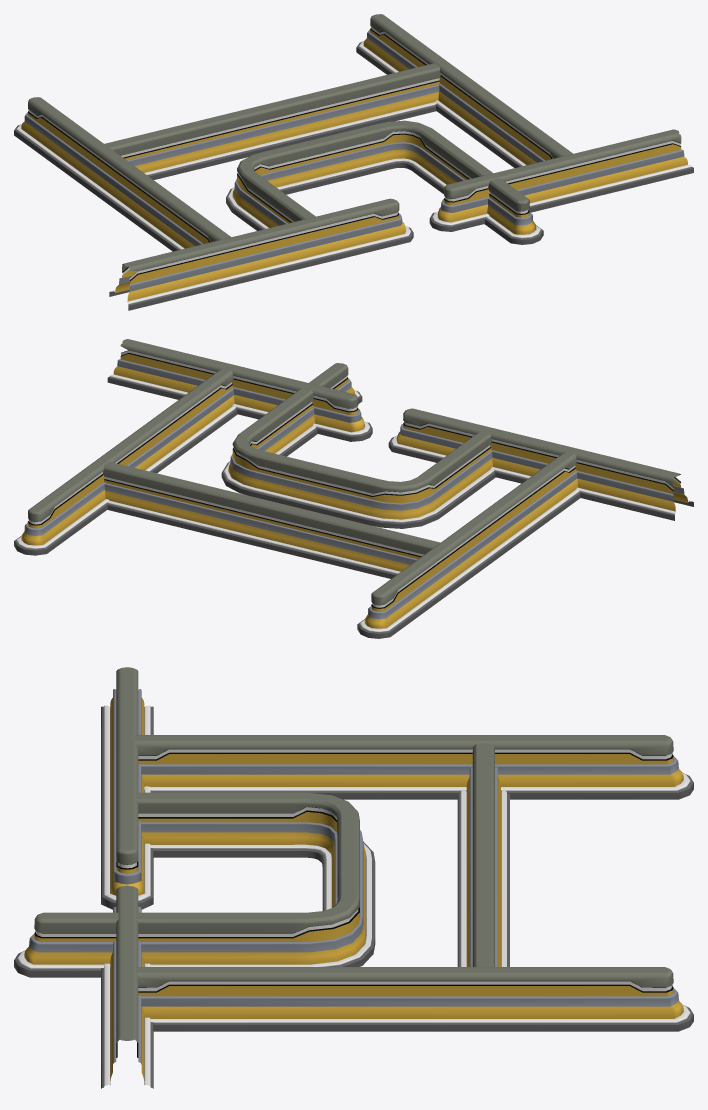
Rendered from Level38_Small_walls.fbx.
The picture shows the model from 3 angles, top to bottom: view 1: azimuth 30°, elevation 25°; view 2: azimuth 150°, elevation 25°; view 3: azimuth 270°, elevation 25°; orthographic projection. The views are drawn at different scales.
Visible parts, largest first — view 1: Small_wall_L65, Small_wall_L47, Small_wallv1_41, Small_wallv1_42, Small_wallv1_40, Small_wallv1_43; view 2: Small_wall_L65, Small_wall_L47, Small_wallv1_40, Small_wallv1_41, Small_wallv1_43, Small_wallv1_42; view 3: Small_wall_L65, Small_wallv1_43, Small_wallv1_40, Small_wall_L47, Small_wallv1_41, Small_wallv1_42.
Boxes of the visible parts, <box> form: Small_wall_L65: <box>226,120,543,244</box>; Small_wall_L47: <box>104,63,440,179</box>; Small_wallv1_41: <box>109,198,413,310</box>; Small_wallv1_42: <box>429,129,693,231</box>; Small_wallv1_40: <box>14,97,231,251</box>; Small_wallv1_43: <box>356,14,573,167</box>; Small_wall_L65: <box>221,363,495,528</box>; Small_wall_L47: <box>103,461,440,578</box>; Small_wallv1_40: <box>357,451,580,638</box>; Small_wallv1_41: <box>388,408,693,520</box>; Small_wallv1_43: <box>14,368,237,555</box>; Small_wallv1_42: <box>107,339,372,441</box>; Small_wall_L65: <box>14,792,375,977</box>; Small_wallv1_43: <box>136,967,693,1031</box>; Small_wallv1_40: <box>135,735,693,799</box>; Small_wall_L47: <box>457,743,509,966</box>; Small_wallv1_41: <box>101,667,153,909</box>; Small_wallv1_42: <box>101,885,153,1088</box>.
Bounding box in the file's own units: 592 × 37.85 × 446.
